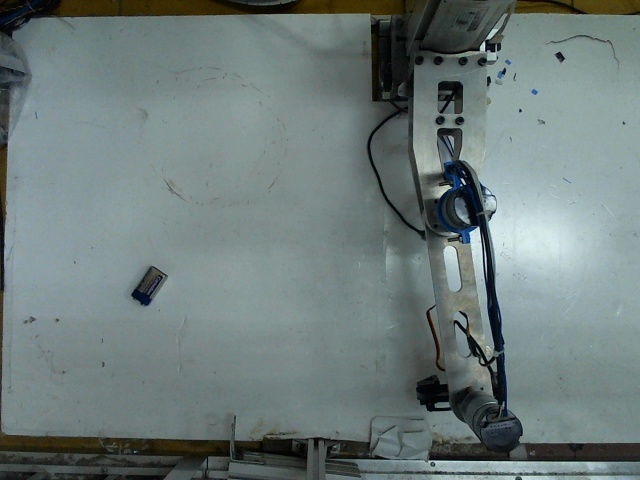battery: (129, 263, 166, 302)
